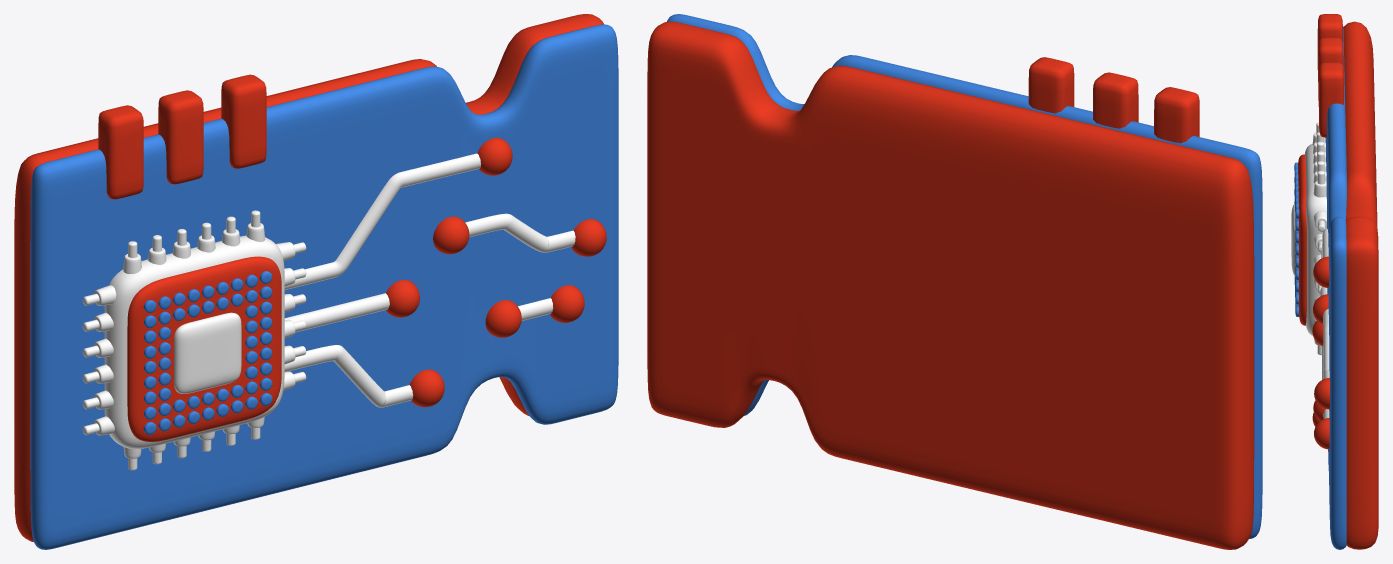
File: circuit-board-3d-animated-icon-1556870790502.glb
3 renders of one model, left to right at view 1: azimuth 30°, elevation 25°; view 2: azimuth 150°, elevation 25°; view 3: azimuth 270°, elevation 25°, orthographic. The views are drawn at different scales.
Visible parts, largest first — view 1: Plane.013, Plane.017, Plane.014, Plane.015, Cylinder.077, Plane.016, NurbsPath.010, NurbsPath.012, NurbsPath.013, NurbsPath.011, Sphere.025, Sphere.023 (+5 smaller); view 2: Plane.017, Plane.013; view 3: Plane.017, Plane.013, Plane.014, Plane.015, Cylinder.077, NurbsPath.013, Sphere.027, Sphere.024, Sphere.026, Plane.016, Sphere.025, Sphere.021 (+2 smaller).
Part boxes in pixels (x1=…): Plane.013: x1=30, y1=24, x2=618, y2=549; Plane.017: x1=14, y1=14, x2=603, y2=541; Plane.014: x1=82, y1=210, x2=306, y2=470; Plane.015: x1=127, y1=256, x2=281, y2=441; Cylinder.077: x1=143, y1=271, x2=272, y2=434; Plane.016: x1=174, y1=312, x2=241, y2=393; NurbsPath.010: x1=284, y1=153, x2=480, y2=289; NurbsPath.012: x1=284, y1=345, x2=413, y2=407; NurbsPath.013: x1=465, y1=213, x2=575, y2=252; NurbsPath.011: x1=284, y1=293, x2=389, y2=332; Sphere.025: x1=433, y1=216, x2=469, y2=254; Sphere.023: x1=485, y1=300, x2=521, y2=337; Plane.017: x1=647, y1=21, x2=1254, y2=549; Plane.013: x1=667, y1=14, x2=1262, y2=538; Plane.017: x1=1317, y1=14, x2=1378, y2=549; Plane.013: x1=1325, y1=24, x2=1346, y2=549; Plane.014: x1=1304, y1=122, x2=1326, y2=355; Plane.015: x1=1298, y1=154, x2=1306, y2=325; Cylinder.077: x1=1294, y1=162, x2=1299, y2=316; NurbsPath.013: x1=1323, y1=309, x2=1329, y2=378; Sphere.027: x1=1313, y1=256, x2=1329, y2=287; Sphere.024: x1=1314, y1=418, x2=1329, y2=449; Sphere.026: x1=1314, y1=378, x2=1329, y2=409; Plane.016: x1=1291, y1=203, x2=1295, y2=276; Sphere.025: x1=1313, y1=294, x2=1328, y2=324; Sphere.021: x1=1312, y1=321, x2=1323, y2=345.
Size of the model in its own units: 10.13 by 6.95 by 1.62.
